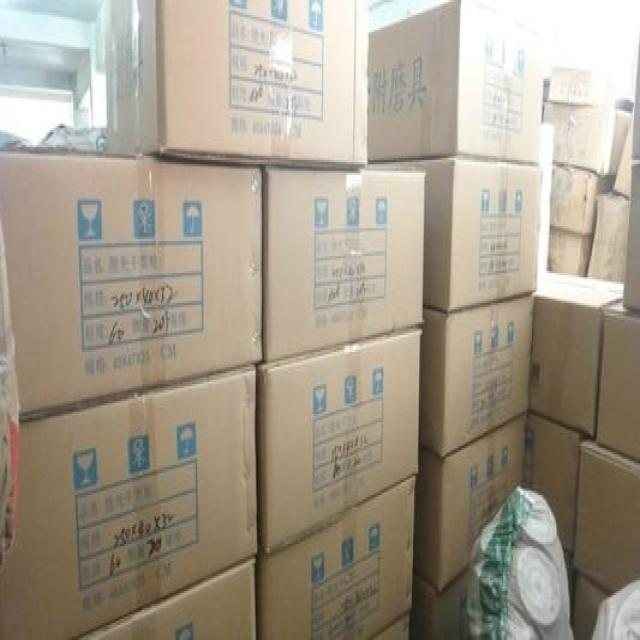box: (1, 363, 257, 640), (0, 154, 264, 418), (104, 0, 369, 169), (257, 331, 421, 555), (264, 166, 425, 361), (369, 0, 546, 162), (370, 156, 540, 316), (256, 474, 415, 640), (413, 416, 526, 589), (423, 294, 534, 457), (528, 269, 626, 433), (79, 559, 255, 640), (569, 435, 640, 593), (520, 410, 578, 559), (543, 94, 634, 179), (593, 297, 639, 463), (550, 164, 612, 233), (588, 194, 630, 282), (570, 578, 611, 640), (624, 164, 640, 309), (538, 126, 551, 288), (550, 230, 590, 275), (369, 610, 409, 640)
